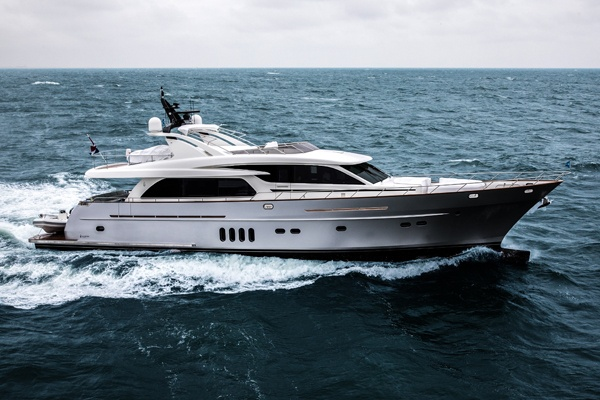yacht: (24, 89, 566, 256)
